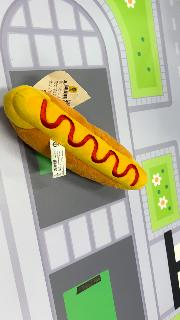hotdog: (3, 85, 148, 192)
